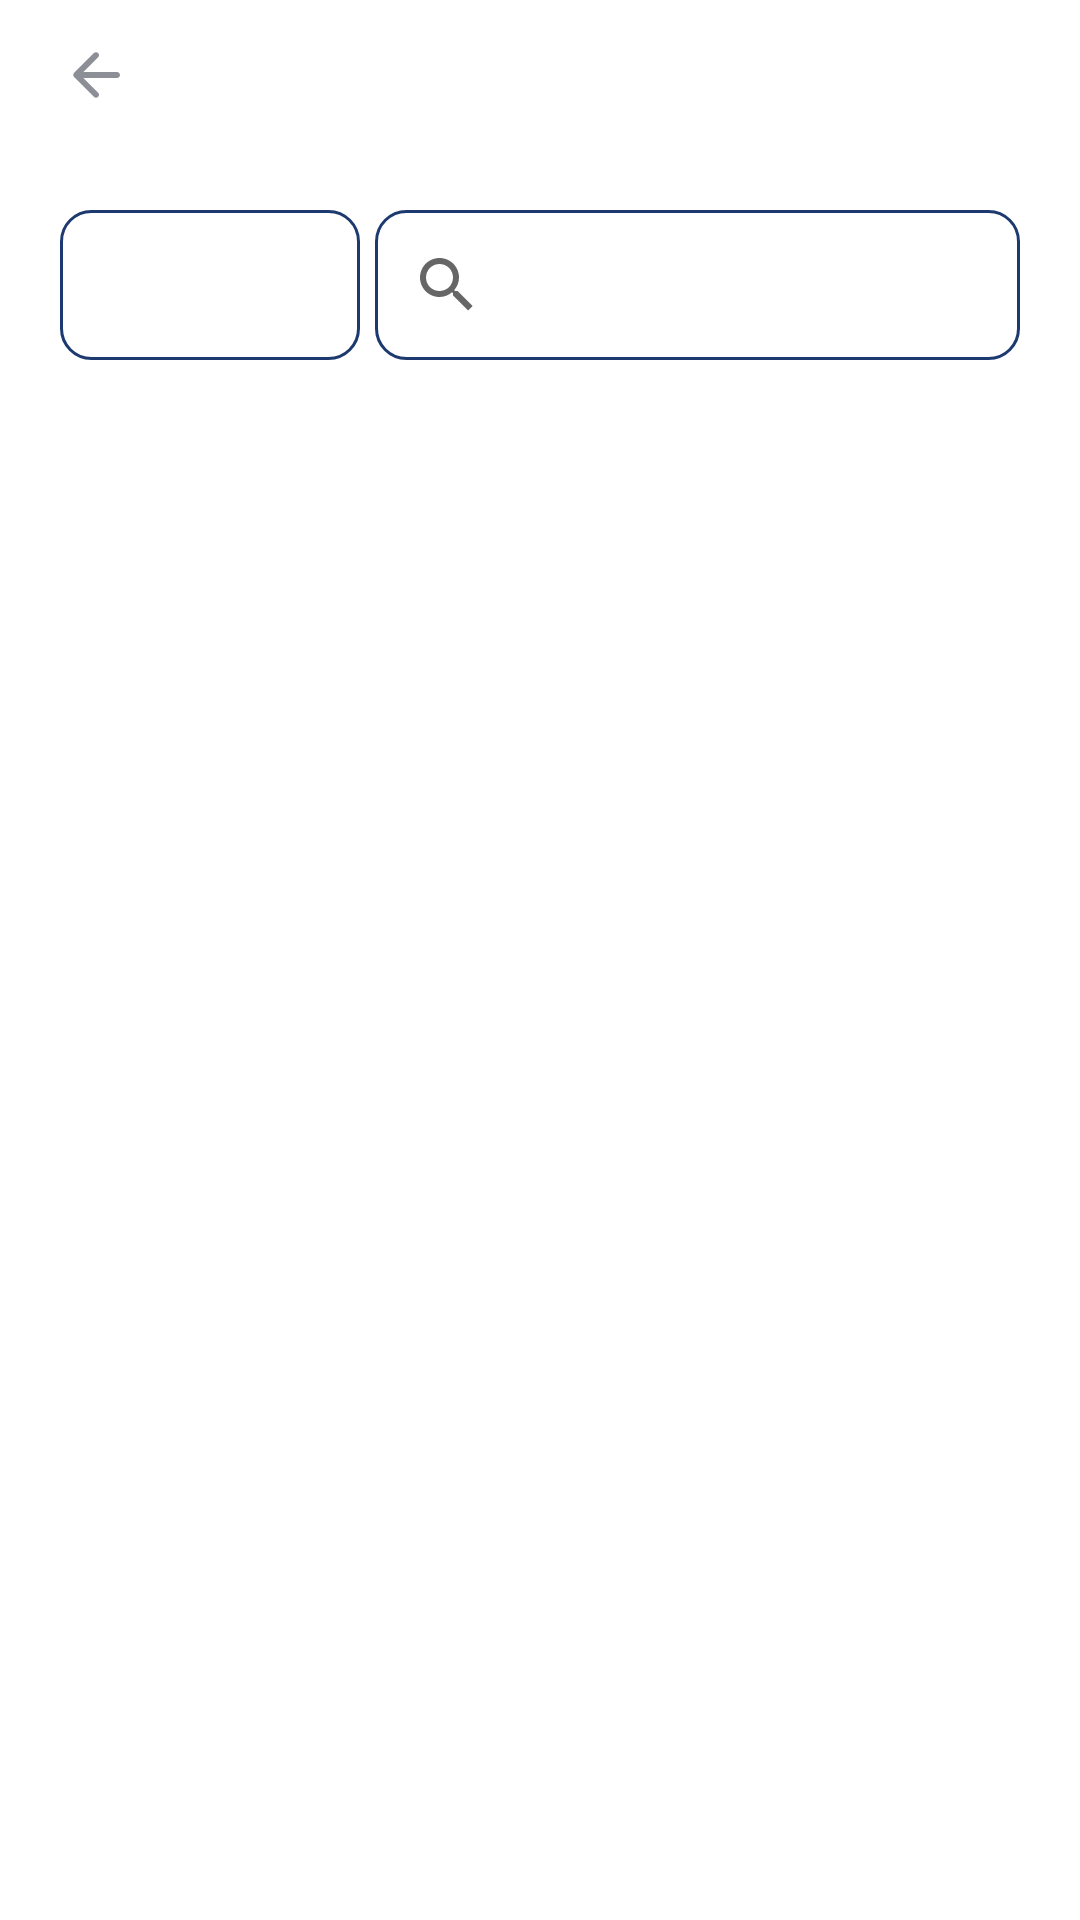

Icon bounding boxes for this 1080x1920 phone screenshot, format BBox(x1, y1, x2, y2):
arrow back: BBox(73, 52, 120, 98)
